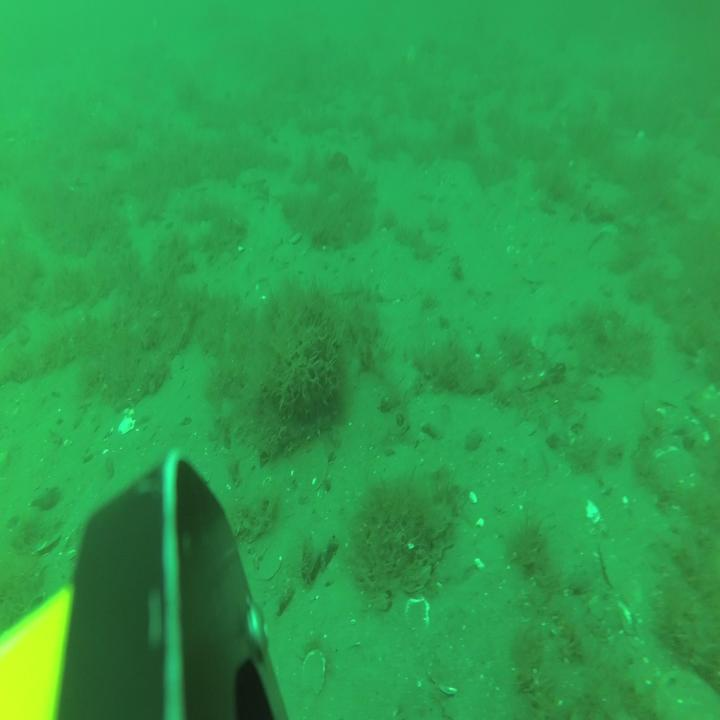scallop: (297, 441, 329, 492), (302, 649, 326, 695), (405, 595, 431, 636), (259, 548, 279, 582), (522, 261, 546, 287), (274, 243, 294, 266)
